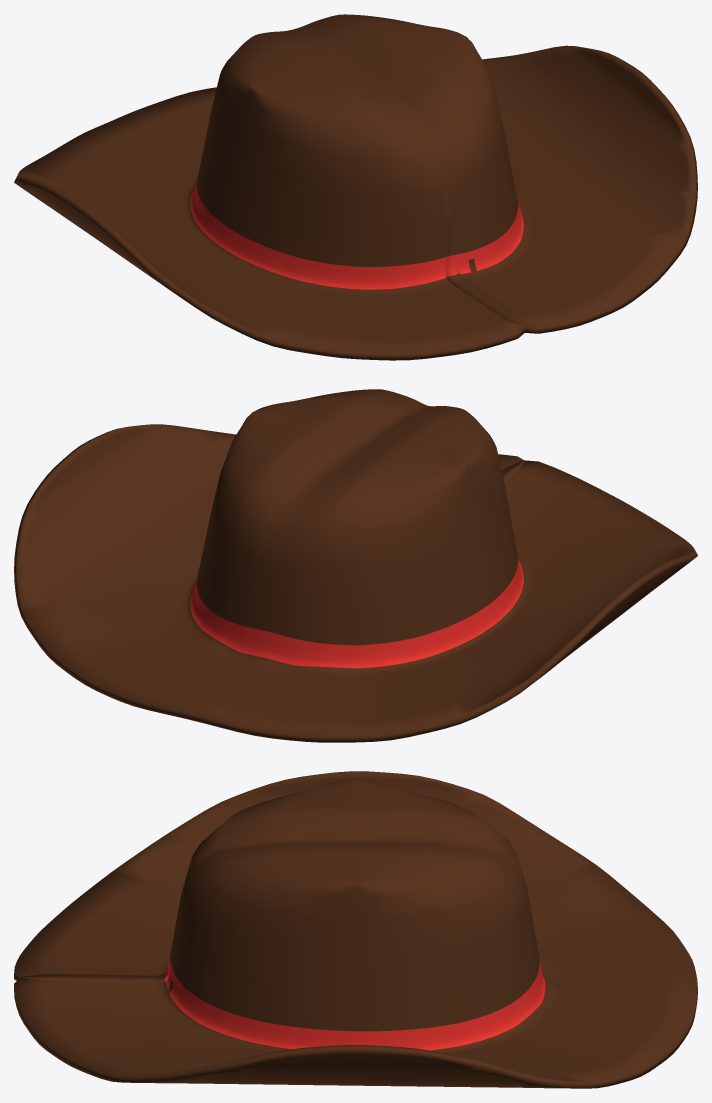
The model's file is Chapéu.glb.
The picture shows the model from 3 angles, top to bottom: view 1: azimuth 30°, elevation 25°; view 2: azimuth 150°, elevation 25°; view 3: azimuth 270°, elevation 25°; orthographic projection.
Visible parts, largest first — view 1: Circle; view 2: Circle; view 3: Circle.
Part boxes in pixels (x1,y1,x2,y2): Circle: (14,14,697,360); Circle: (14,389,697,742); Circle: (14,771,697,1088).
Size of the model in its own units: 1.92 by 0.5392 by 1.99.
